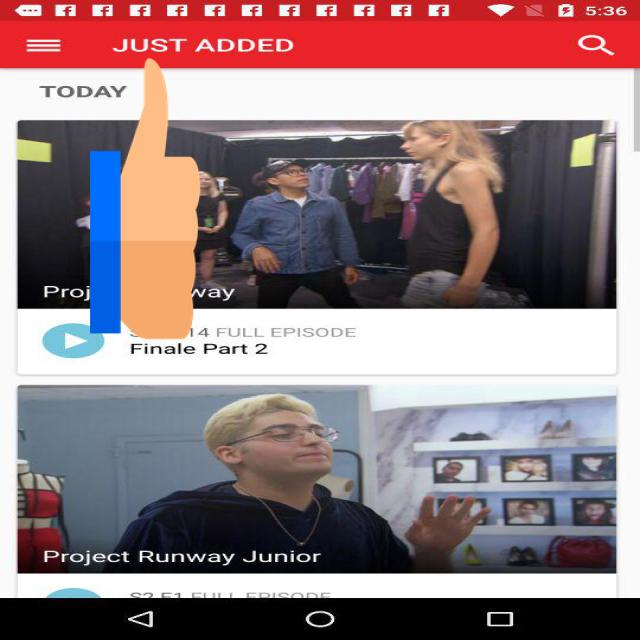privacy zuckering: (90, 51, 200, 346)
